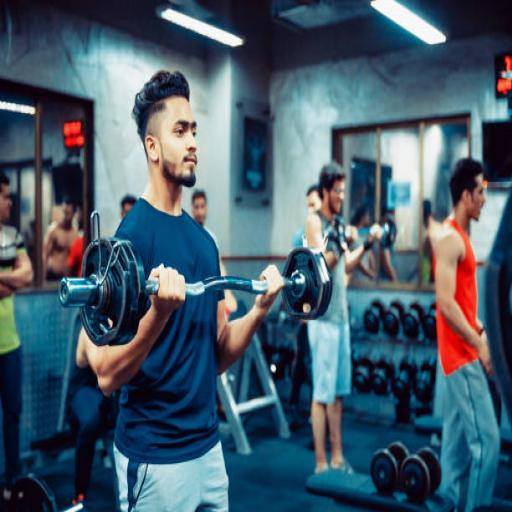Person: (74, 123, 261, 417), (404, 176, 506, 418), (278, 186, 384, 408)
no_gloves: (152, 254, 194, 302), (250, 253, 287, 302), (463, 299, 488, 336), (334, 226, 355, 256), (367, 228, 375, 255)
no_goggle: (158, 164, 205, 186), (319, 210, 343, 220), (462, 207, 474, 220)
no_helmet: (126, 126, 215, 191), (436, 186, 478, 226), (314, 187, 344, 225)
none: (93, 207, 247, 382), (416, 233, 476, 333), (299, 218, 359, 310)
